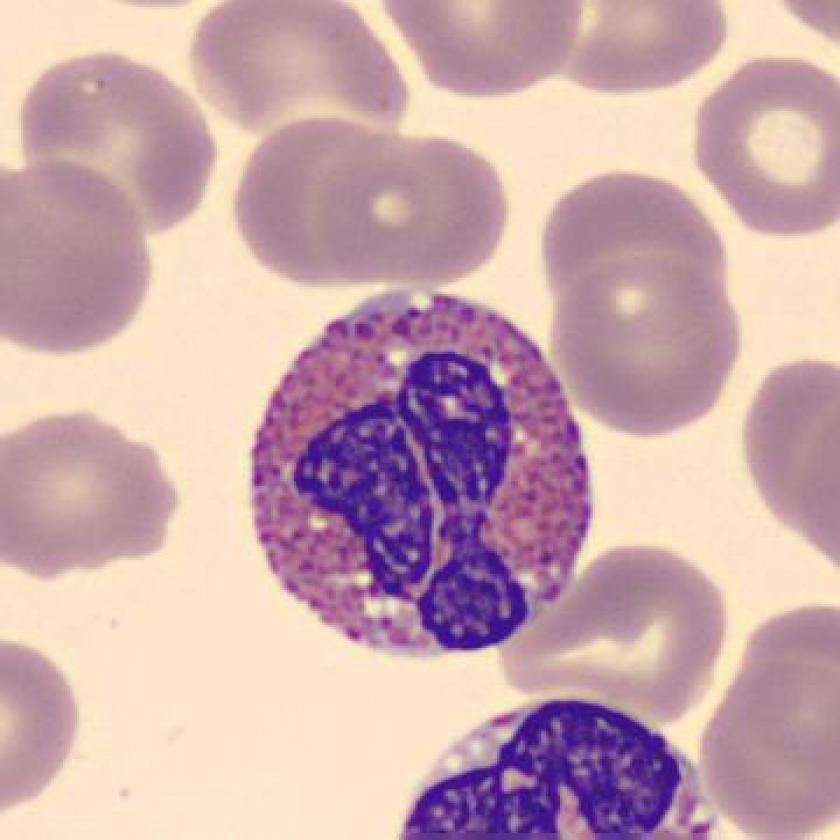eosinophil: (230, 272, 617, 663)
